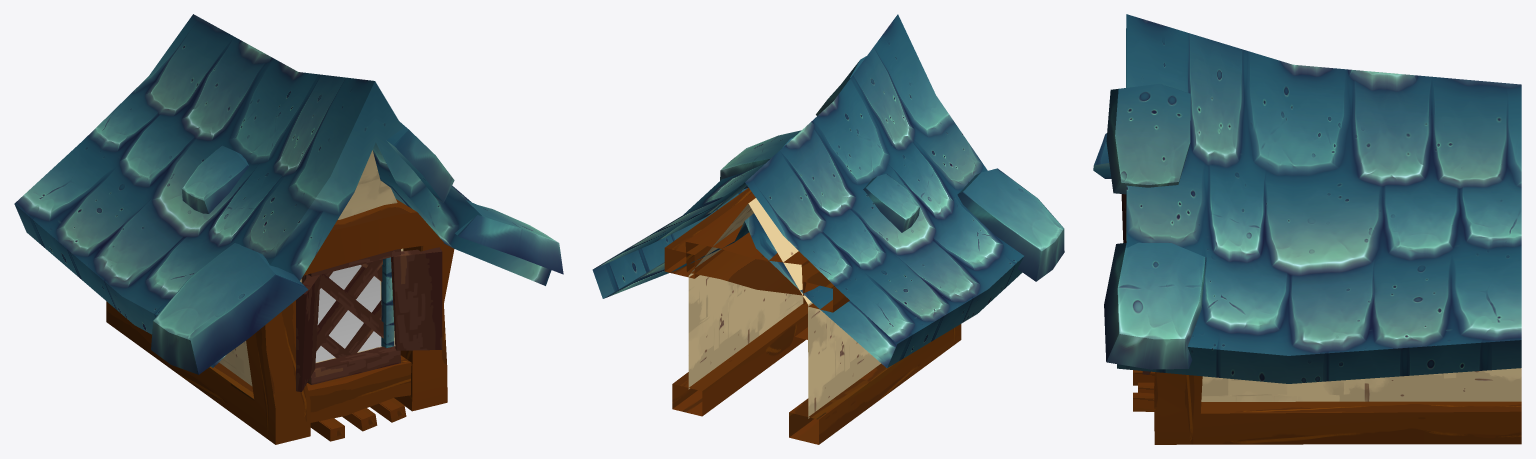
File: SM_BLD_window_v04_01.fbx
3 views of the same model, side by side, from view 1: azimuth 30°, elevation 25°; view 2: azimuth 150°, elevation 25°; view 3: azimuth 270°, elevation 25° (orthographic). The views are drawn at different scales.
Parts seen in each view (by area): view 1: SM_BLD_window_v04_01; view 2: SM_BLD_window_v04_01; view 3: SM_BLD_window_v04_01.
Part boxes in pixels (x1,y1,x2,y2): SM_BLD_window_v04_01: (14, 14, 563, 444); SM_BLD_window_v04_01: (592, 14, 1064, 444); SM_BLD_window_v04_01: (1093, 14, 1521, 444).
Size of the model in its own units: 428 by 382 by 383.
